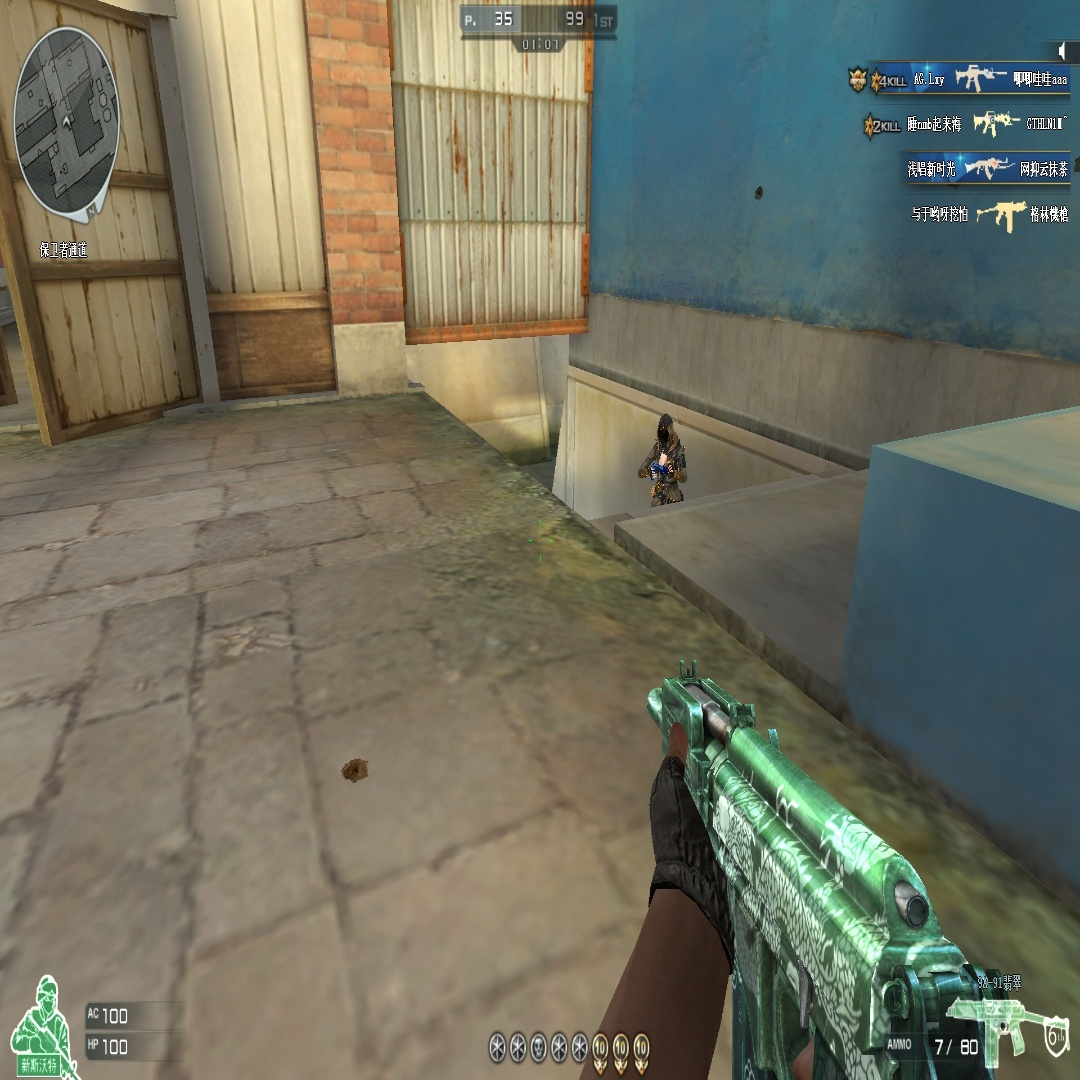head: (657, 413, 672, 448)
p: (640, 414, 686, 494)
